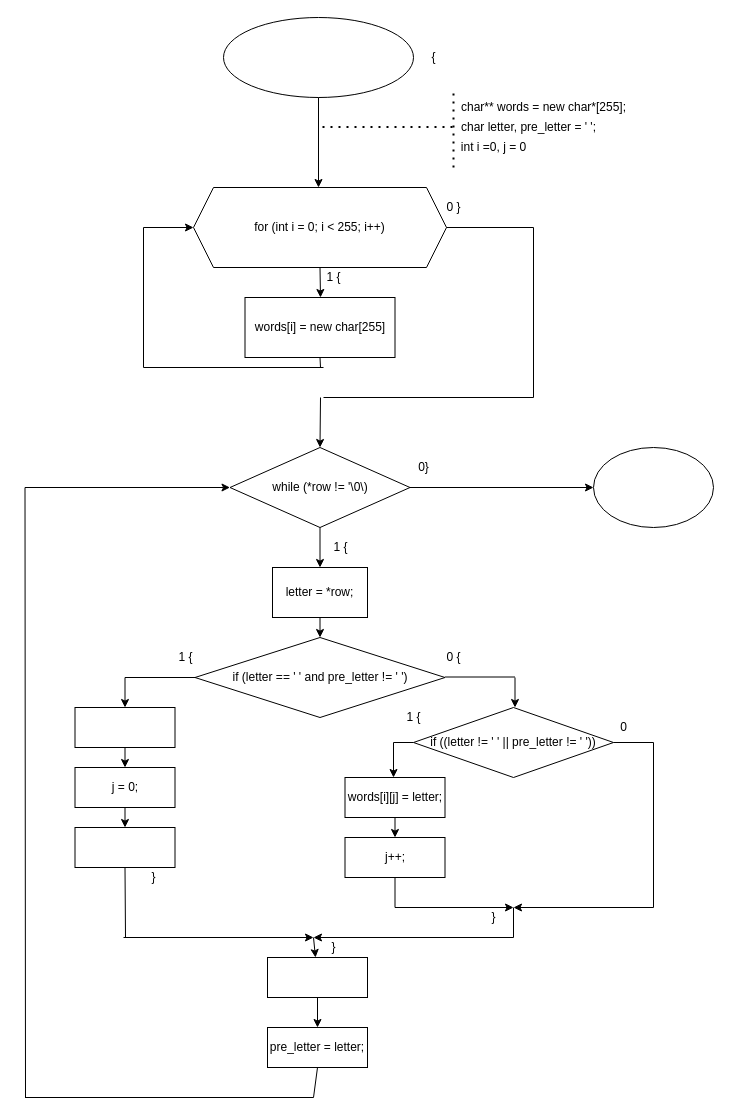
Some shapes in this 731 by 1116 pixel diagram are drawn without their labels. The centre of each missing label's shape, as x and y in pixels:
char** createListWords(char* row): the point at 318,57
i++;: the point at 124,847
return words;: the point at 653,487
row++;: the point at 317,977
words[i][j] = '\0';: the point at 124,727
